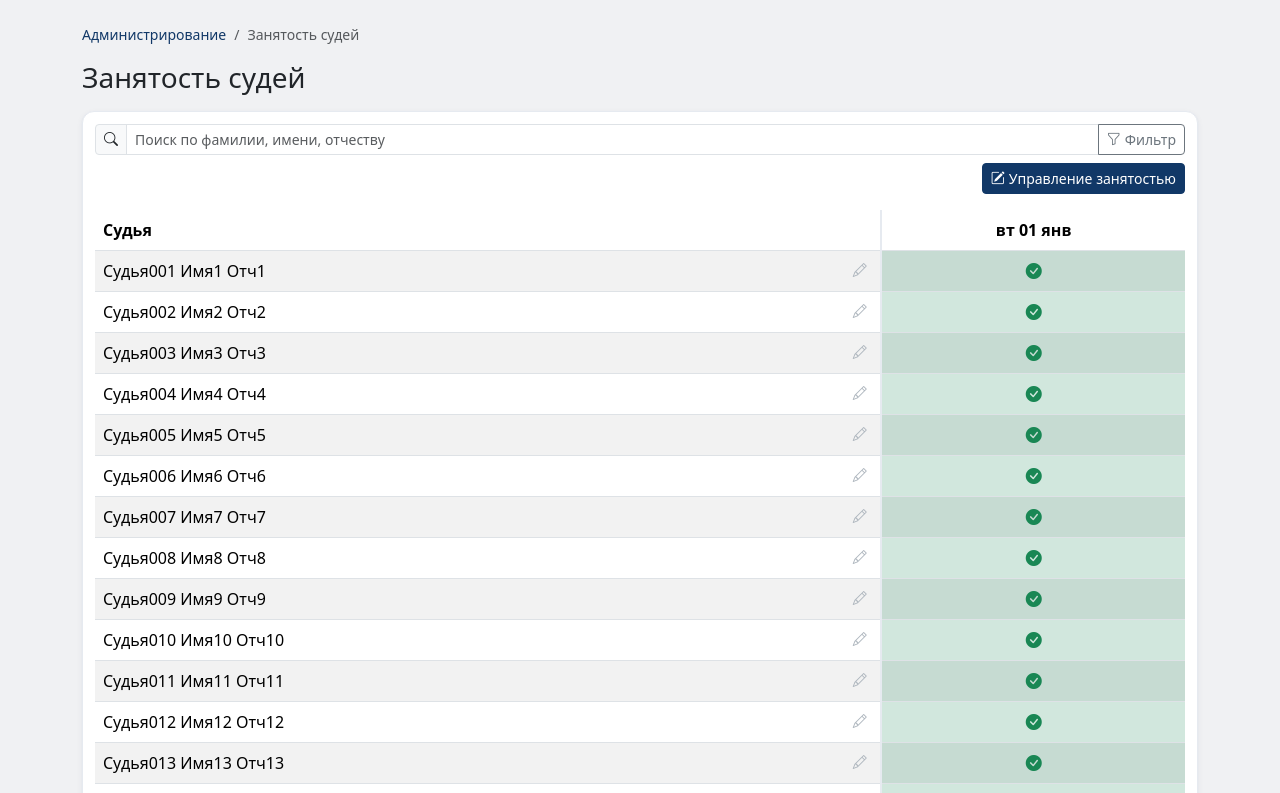
AdminRefereeAvailability view › uses surname-priority search and excludes patronymic-only matches
Expected: the text "Судья001 Имя1 Отч1" is shown, [103,260,266,282]
Type "Петров" into the search field labelled "Поиск по фамилии, имени, отчеству" at (612, 139), box [126,124,1099,155]
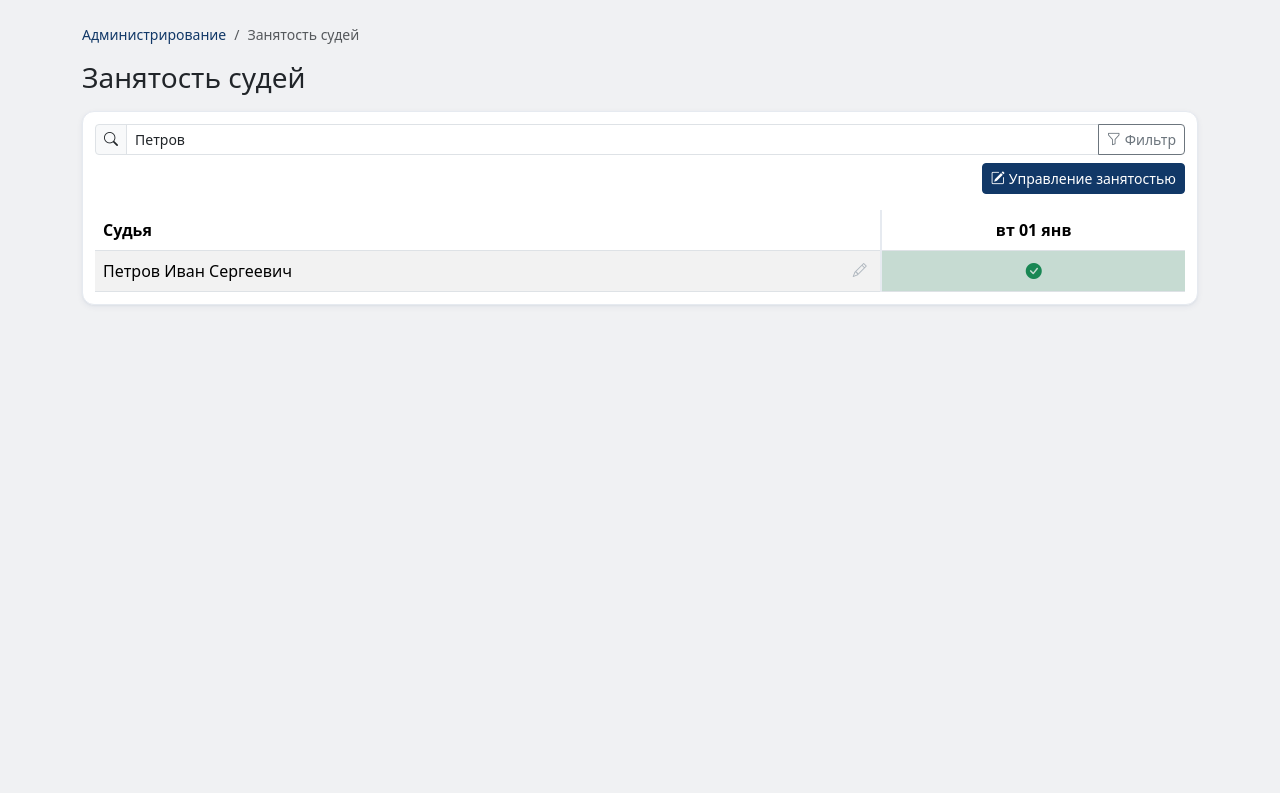
Expected: the text "Петров Иван Сергеевич" is shown, [103,260,292,282]
